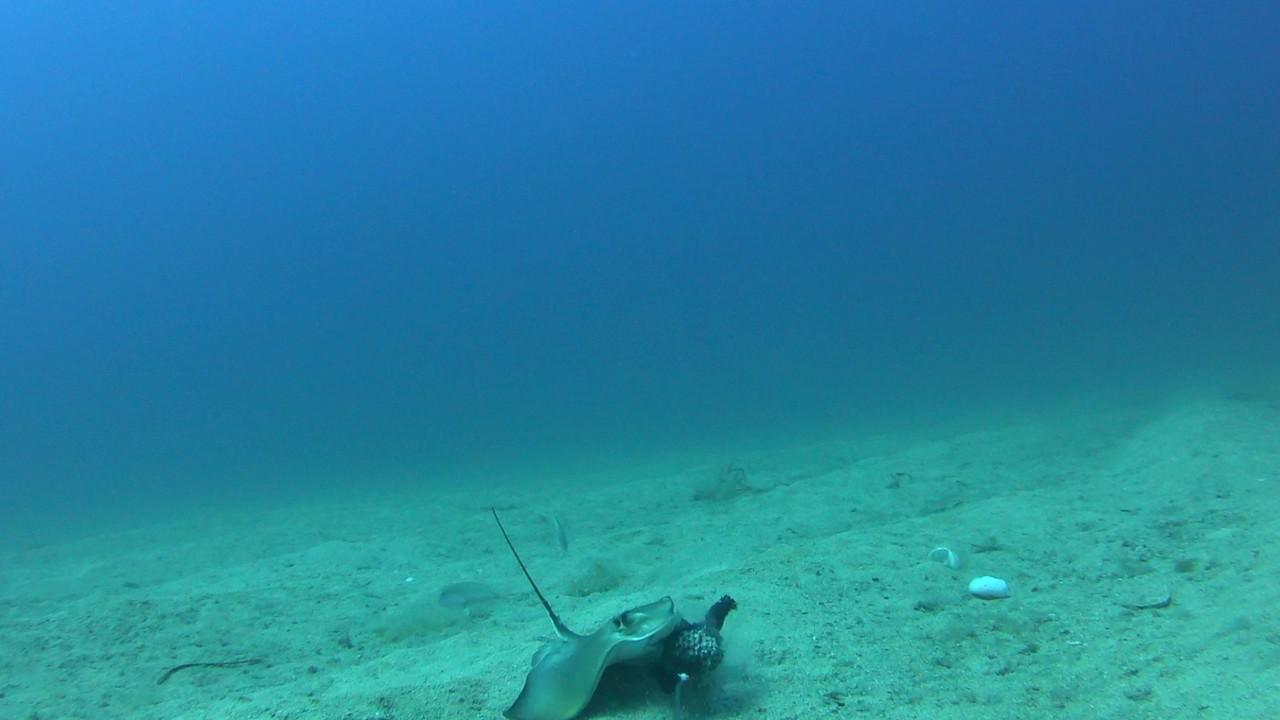myliobatis: (472, 488, 730, 719)
